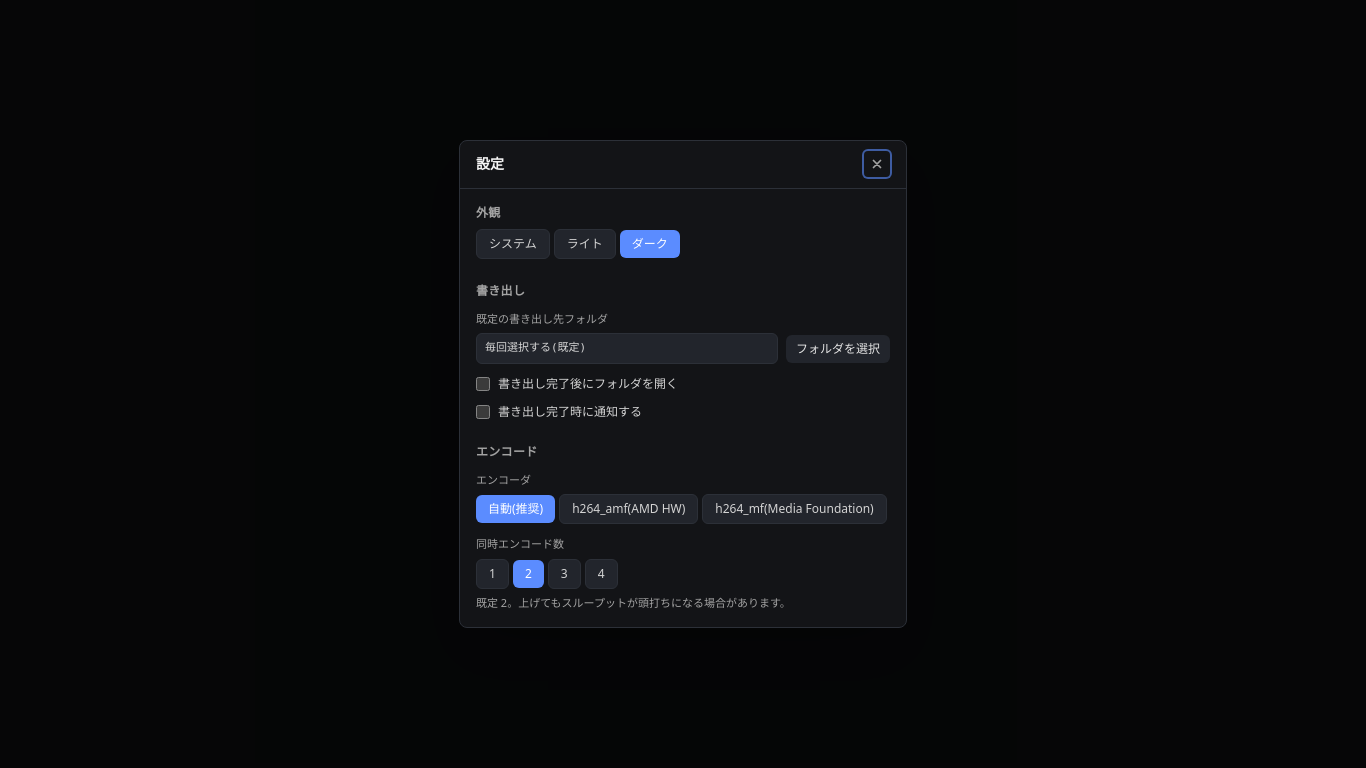
SettingsDialog: 書き出し先 › 「クリア」で defaultExportDir が null に戻る
What coordinates should you click on to do the following:
click the button "フォルダを選択"
I would click on:
 (838, 348)
Its box is [786, 334, 890, 362].
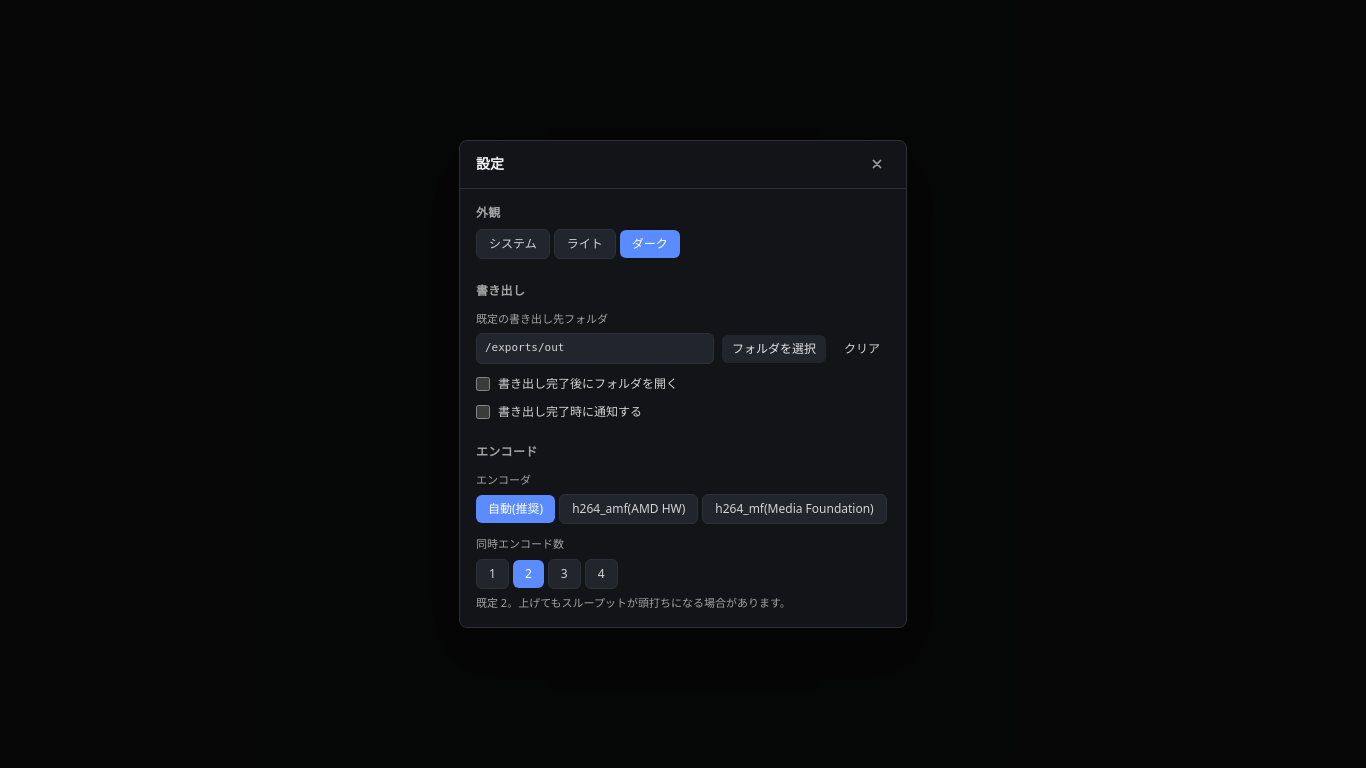
Now the text "/exports/out" is shown, box [476, 333, 714, 364]
What coordinates should you click on to do the following:
click the button "クリア"
I would click on:
 (862, 348)
Its box is [834, 334, 890, 362].
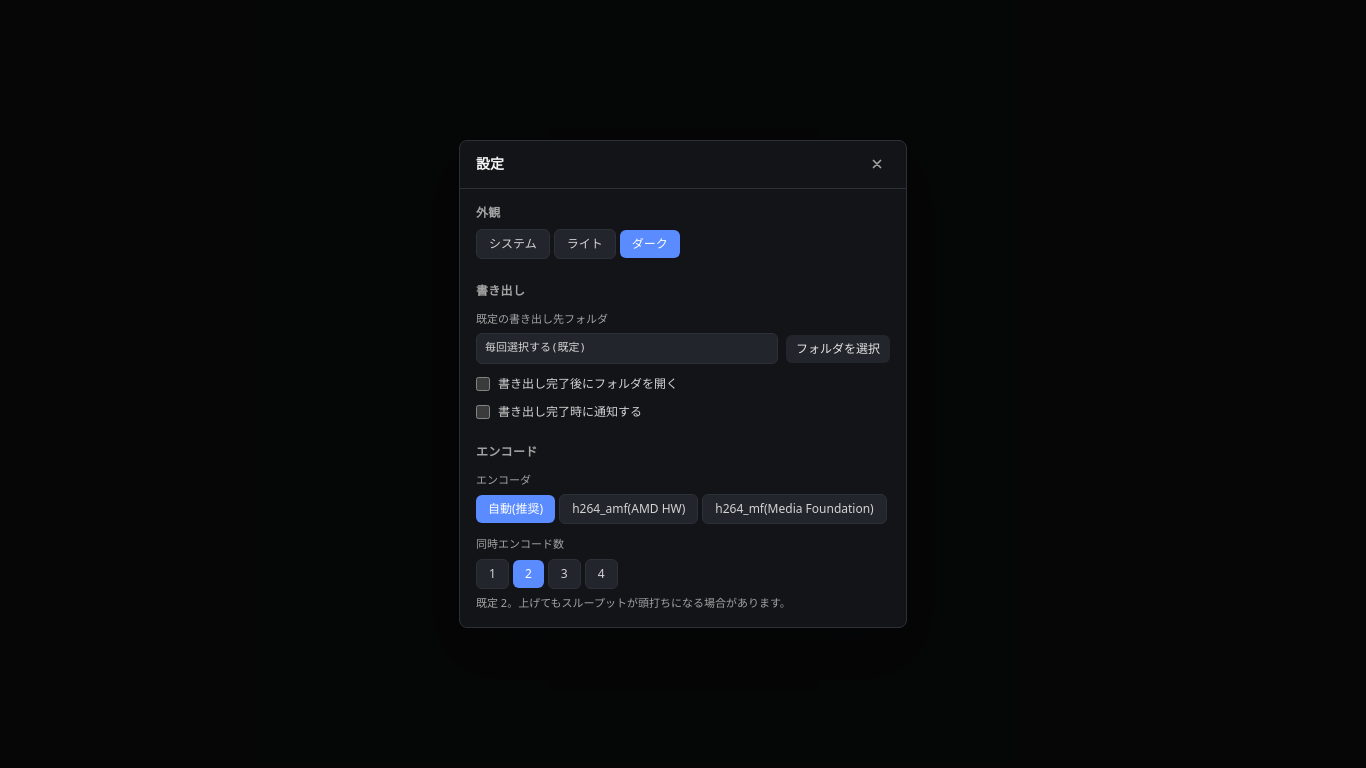
Now the text "毎回選択する(既定)" is shown, box [476, 333, 778, 364]
Now the button "クリア" is gone
